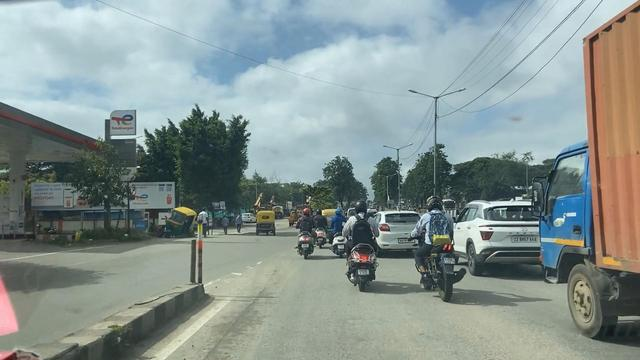LMV: (413, 199, 456, 299), (345, 202, 376, 289), (297, 209, 317, 256)
